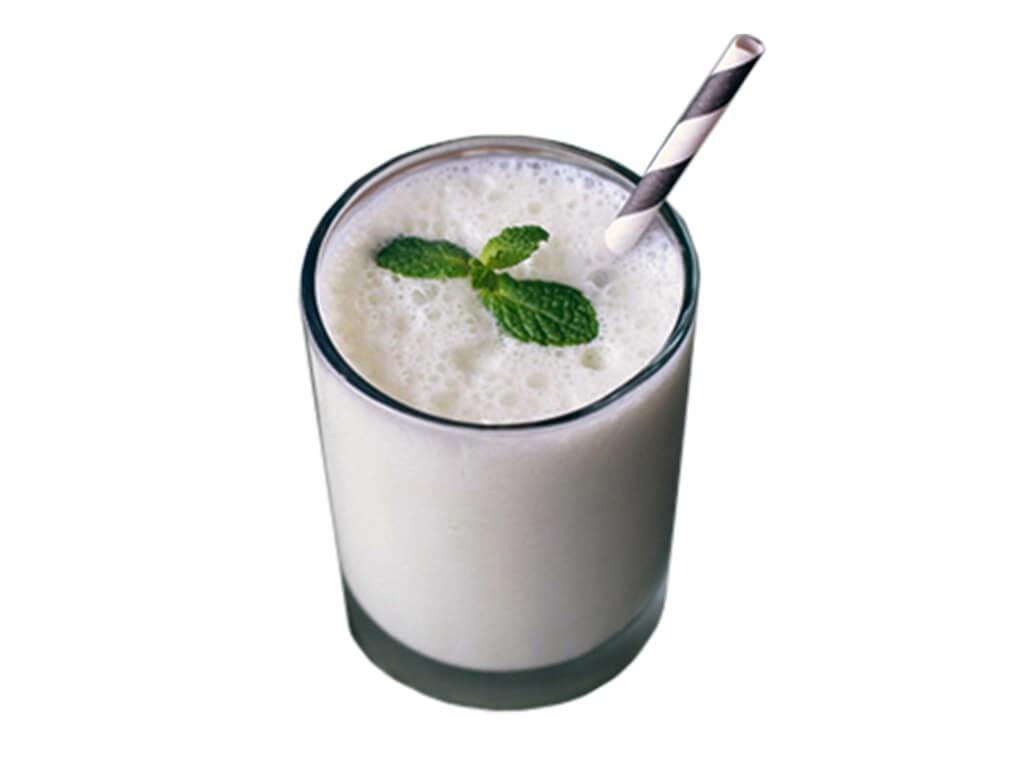Lassi: (313, 153, 685, 672)
